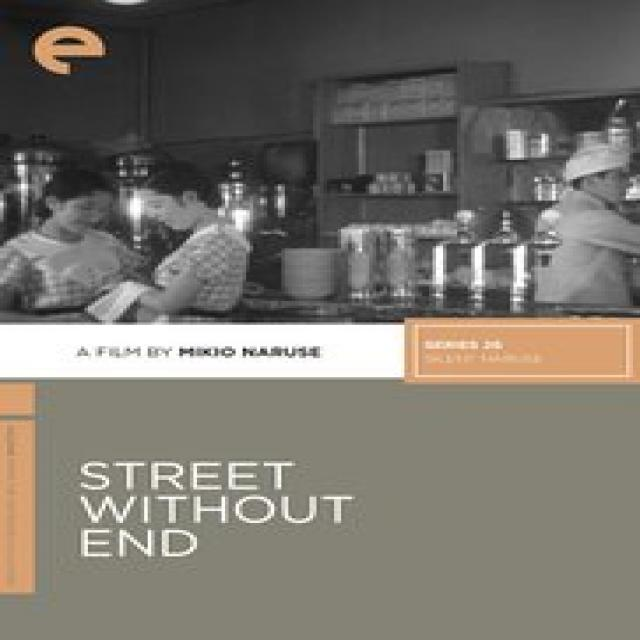movie-judul: (73, 451, 380, 563)
picture: (0, 52, 640, 322)
